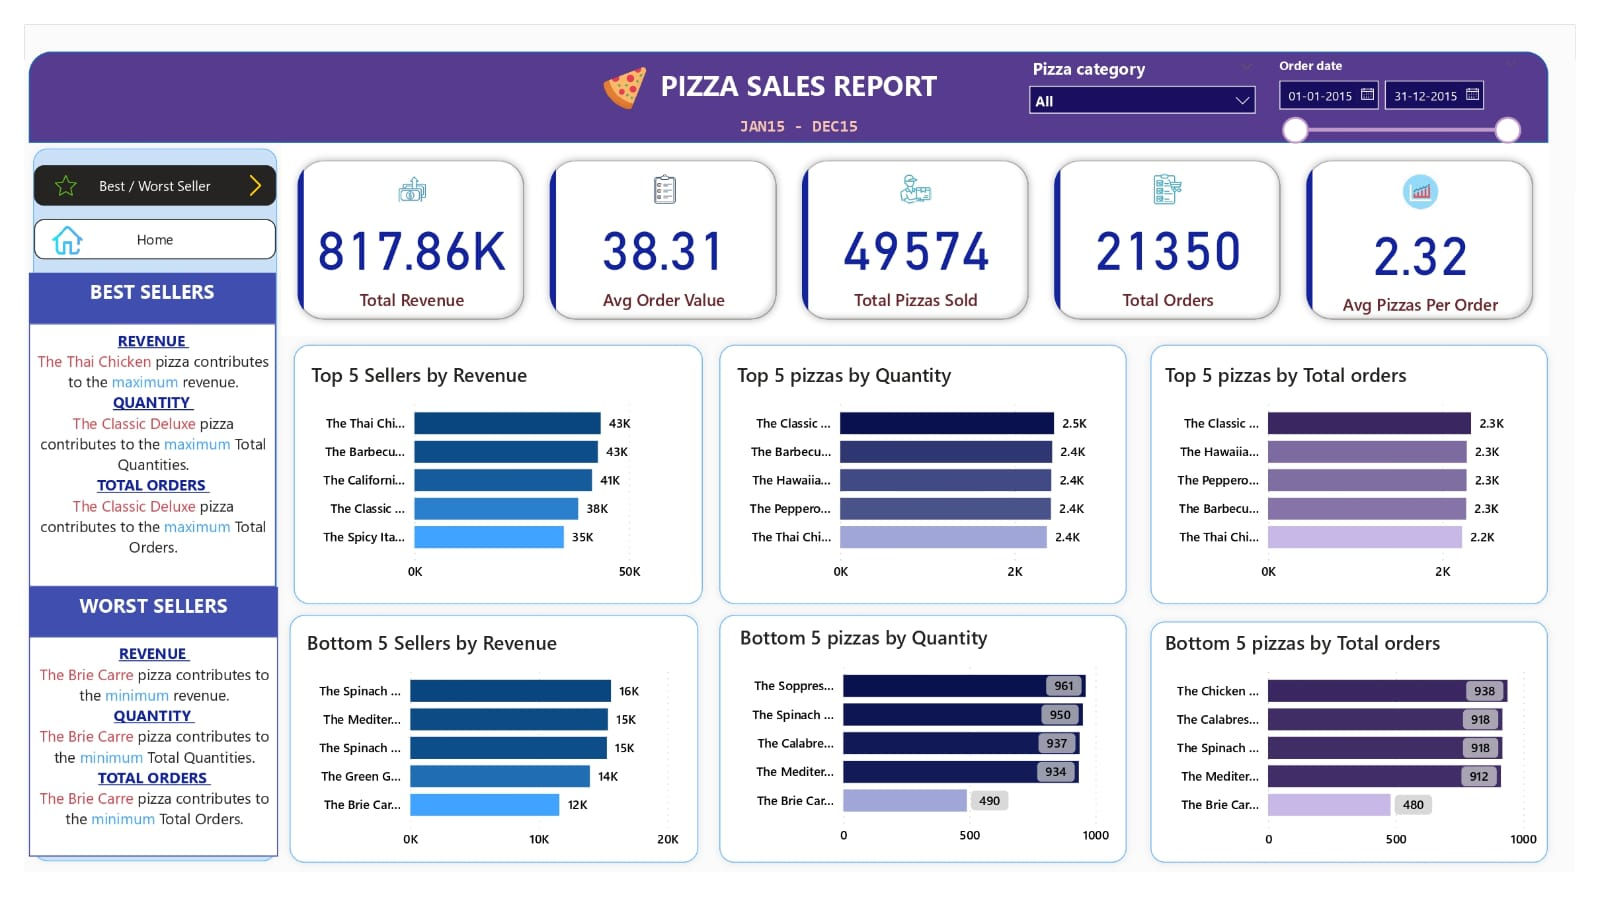

Layout of this report page (visuals, bound fields, positions):
{"tool":"powerbi","page":{"name":"Best / Worst Seller","canvas":[1500,820],"ordinal":1},"visuals":[{"type":"shape","box":[0,110.6,252.4,707.6],"z":0},{"type":"cardVisual","fields":{"Data":["pizza_sales.Total Revenue","pizza_sales.Avg Order Value","pizza_sales.Total Pizzas Sold","pizza_sales.Total Orders","pizza_sales.Avg Pizzas Per Order"]},"box":[248,115.2,1226.9,186],"z":1000},{"type":"shape","box":[3.7,25.8,1470.5,88.4],"z":2000},{"type":"textbox","box":[576.8,35,344.6,47.9],"z":3000},{"type":"textbox","box":[659.7,82.9,178.7,31.3],"z":4000},{"type":"image","box":[532.5,35,95.8,53.4],"z":5000},{"type":"shape","box":[248,562.5,411.9,256.9],"z":6000},{"type":"shape","box":[664.4,562.5,409.7,256.9],"z":7000},{"type":"shape","box":[1080.7,569.1,400.8,250.2],"z":8000},{"type":"textbox","box":[3.7,239.6,239.6,49.8],"z":9000},{"type":"textbox","box":[3.7,289.3,239.6,254.3],"z":10000},{"type":"textbox","box":[3.7,543.6,241.4,49.8],"z":11000},{"type":"textbox","box":[3.7,591.5,241.4,213.8],"z":12000},{"type":"slicer","fields":{"Values":["pizza_sales.pizza_category"]},"box":[961.9,25.8,239.6,75.6],"z":13000},{"type":"slicer","fields":{"Values":["pizza_sales.order_date"]},"box":[1201.4,25.8,254.3,110.6],"z":14000},{"type":"shape","box":[252.5,301.2,411.9,268],"z":15000},{"type":"shape","box":[664.4,301.2,409.7,268],"z":16000},{"type":"shape","box":[1080.7,301.2,400.8,268],"z":17000},{"type":"barChart","title":"Top 5 Sellers by Revenue","fields":{"Category":["pizza_sales.pizza_name"],"Y":["pizza_sales.Total Revenue"]},"box":[272.4,325.5,369.8,221.5],"z":18000},{"type":"barChart","title":"Bottom 5 Sellers by Revenue","fields":{"Category":["pizza_sales.pizza_name"],"Y":["pizza_sales.Total Revenue"]},"box":[268,584.7,369.8,221.5],"z":19000},{"type":"barChart","title":"Top 5 pizzas by Quantity","fields":{"Category":["pizza_sales.pizza_name"],"Y":["pizza_sales.Total Pizzas Sold"]},"box":[684.3,325.5,369.8,221.5],"z":20000},{"type":"barChart","title":"Bottom 5 pizzas by Quantity","fields":{"Category":["pizza_sales.pizza_name"],"Y":["pizza_sales.Total Pizzas Sold"]},"box":[686.5,580.2,367.6,221.5],"z":21000},{"type":"barChart","title":"Top 5 pizzas by Total orders","fields":{"Category":["pizza_sales.pizza_name"],"Y":["pizza_sales.Total Orders"]},"box":[1098.4,325.5,369.8,221.5],"z":22000},{"type":"barChart","title":"Bottom 5 pizzas by Total orders","fields":{"Category":["pizza_sales.pizza_name"],"Y":["pizza_sales.Total Orders"]},"box":[1098.4,584.7,369.8,221.5],"z":22001},{"type":"pageNavigator","box":[9.2,136.4,234,38.7],"z":22002},{"type":"pageNavigator","box":[9.2,188,234,38.7],"z":22003},{"type":"image","box":[202.7,140,40.5,31.3],"z":22004},{"type":"image","box":[22.1,188,38.7,40.5],"z":22005},{"type":"image","box":[24,136.4,31.3,38.7],"z":22006}]}

Visuals, with their boxes in screenshot pixels (x1, y1, x2, y2), scaled from the page's 1500x820 canvas onto the 1600x897 screenshot:
shape: (0, 121, 269, 895)
cardVisual - pizza_sales.Total Revenue x pizza_sales.Avg Order Value: (265, 126, 1573, 329)
shape: (4, 28, 1572, 125)
textbox: (615, 38, 983, 91)
textbox: (704, 91, 894, 125)
image: (568, 38, 670, 97)
shape: (265, 615, 704, 896)
shape: (709, 615, 1146, 896)
shape: (1153, 623, 1580, 896)
textbox: (4, 262, 260, 317)
textbox: (4, 316, 260, 595)
textbox: (4, 595, 261, 649)
textbox: (4, 647, 261, 881)
slicer - pizza_sales.pizza_category: (1026, 28, 1282, 111)
slicer - pizza_sales.order_date: (1281, 28, 1553, 149)
shape: (269, 329, 709, 623)
shape: (709, 329, 1146, 623)
shape: (1153, 329, 1580, 623)
"Top 5 Sellers by Revenue" barChart: (291, 356, 685, 598)
"Bottom 5 Sellers by Revenue" barChart: (286, 640, 680, 882)
"Top 5 pizzas by Quantity" barChart: (730, 356, 1124, 598)
"Bottom 5 pizzas by Quantity" barChart: (732, 635, 1124, 877)
"Top 5 pizzas by Total orders" barChart: (1172, 356, 1566, 598)
"Bottom 5 pizzas by Total orders" barChart: (1172, 640, 1566, 882)
pageNavigator: (10, 149, 259, 192)
pageNavigator: (10, 206, 259, 248)
image: (216, 153, 259, 187)
image: (24, 206, 65, 250)
image: (26, 149, 59, 192)
